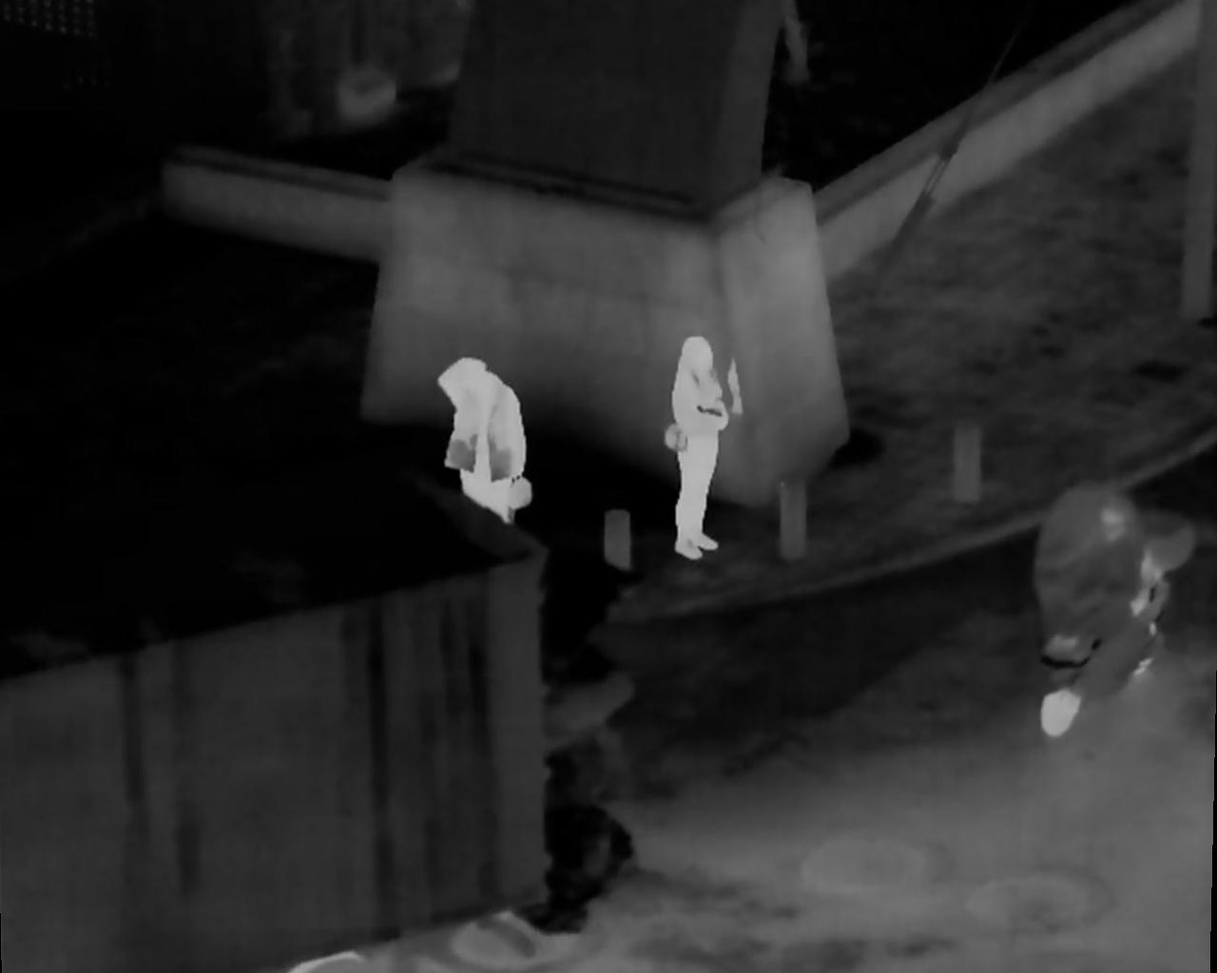person: (1052, 502, 1152, 731), (440, 355, 535, 529), (666, 336, 737, 551)
